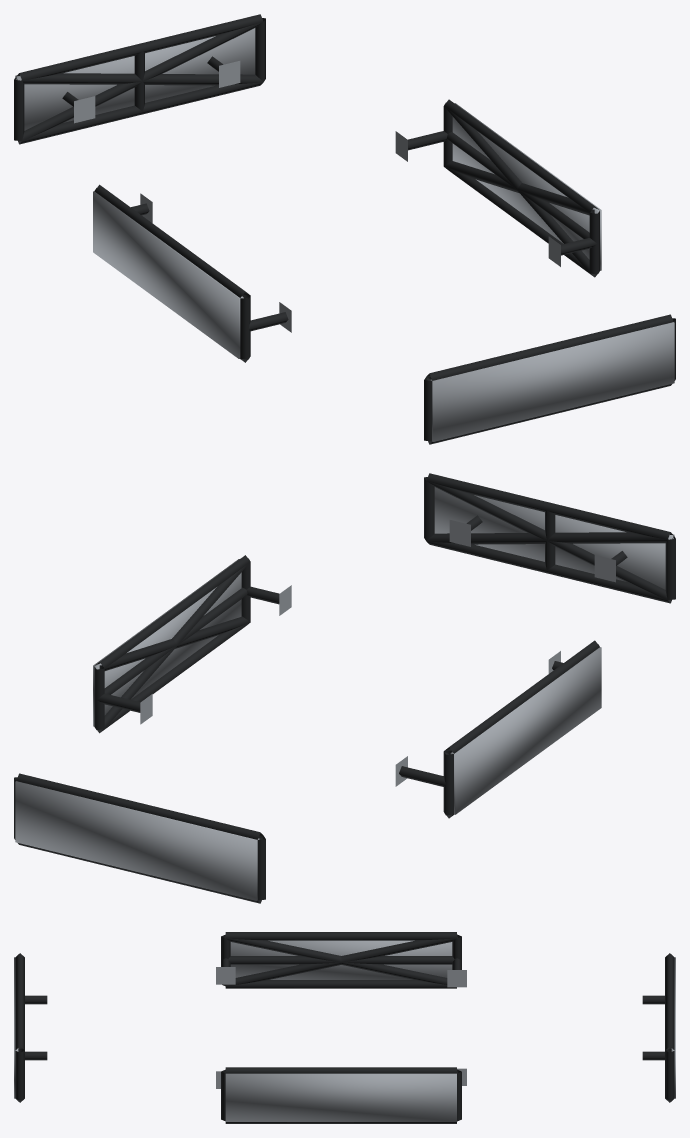
The model's file is kosame_alpendre_protecao.glb.
The picture shows the model from 3 angles, top to bottom: view 1: azimuth 30°, elevation 25°; view 2: azimuth 150°, elevation 25°; view 3: azimuth 270°, elevation 25°; orthographic projection. The views are drawn at different scales.
Parts seen in each view (by area): view 1: Protection_front_Level3_Details, Protection_left_Level3_Details, Protection_rear_Level1_Details, Protection_rear_Level3_Details, Protection_right_Level1_Details, Protection_rear_Level2_Details, Protection_right_Level2_Details, Protection_right_Level3_Details, Protection_front_Level1_Details, Protection_left_Level1_Details; view 2: Protection_rear_Level3_Details, Protection_left_Level3_Details, Protection_front_Level1_Details, Protection_front_Level3_Details, Protection_right_Level1_Details, Protection_front_Level2_Details, Protection_right_Level2_Details, Protection_right_Level3_Details, Protection_rear_Level1_Details, Protection_left_Level1_Details; view 3: Protection_right_Level3_Details, Protection_left_Level1_Details, Protection_left_Level2_Details, Protection_left_Level3_Details, Protection_right_Level1_Details, Protection_rear_Level1_Details, Protection_front_Level1_Details.
Boxes of the visible parts, box(x1,y1,x2,y2) form: Protection_front_Level3_Details: box(430, 322, 674, 441); Protection_left_Level3_Details: box(93, 191, 243, 358); Protection_rear_Level1_Details: box(14, 14, 265, 144); Protection_rear_Level3_Details: box(15, 28, 255, 130); Protection_right_Level1_Details: box(395, 99, 599, 277); Protection_rear_Level2_Details: box(16, 22, 262, 143); Protection_right_Level2_Details: box(444, 106, 599, 276); Protection_right_Level3_Details: box(452, 103, 601, 270); Protection_front_Level1_Details: box(424, 314, 675, 444); Protection_left_Level1_Details: box(94, 184, 291, 362); Protection_rear_Level3_Details: box(15, 781, 259, 900); Protection_left_Level3_Details: box(450, 647, 601, 814); Protection_front_Level1_Details: box(424, 473, 675, 603); Protection_front_Level3_Details: box(434, 487, 674, 589); Protection_right_Level1_Details: box(94, 555, 291, 733); Protection_front_Level2_Details: box(427, 481, 673, 602); Protection_right_Level2_Details: box(95, 562, 250, 732); Protection_right_Level3_Details: box(93, 559, 241, 726); Protection_rear_Level1_Details: box(14, 773, 265, 903); Protection_left_Level1_Details: box(395, 640, 599, 818); Protection_right_Level3_Details: box(225, 1073, 456, 1121); Protection_left_Level1_Details: box(216, 932, 466, 988); Protection_left_Level2_Details: box(225, 935, 457, 986); Protection_left_Level3_Details: box(230, 940, 452, 979); Protection_right_Level1_Details: box(216, 1067, 466, 1123); Protection_rear_Level1_Details: box(642, 953, 674, 1102); Protection_front_Level1_Details: box(15, 953, 47, 1102).
Size of the model in its own units: 1.88 by 0.354 by 3.75.
1 material, 1 textured.
